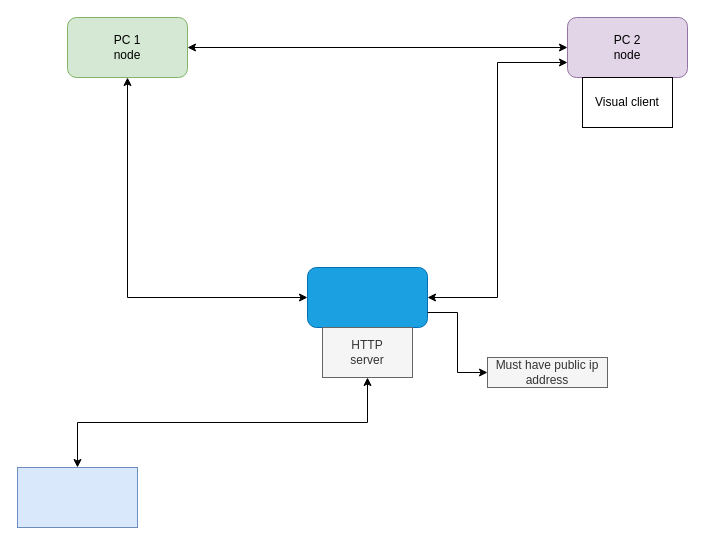
Image size: 705x545. Some labels were removed from this diagram. The shapes that lost their labels are listed below. From the top down, each one's box as (x1, y1, x2, y2) in pixels, then its label:
(306, 266, 428, 328): PC 3 node
(16, 466, 138, 528): Enter from public (foreing) PC to web interface
